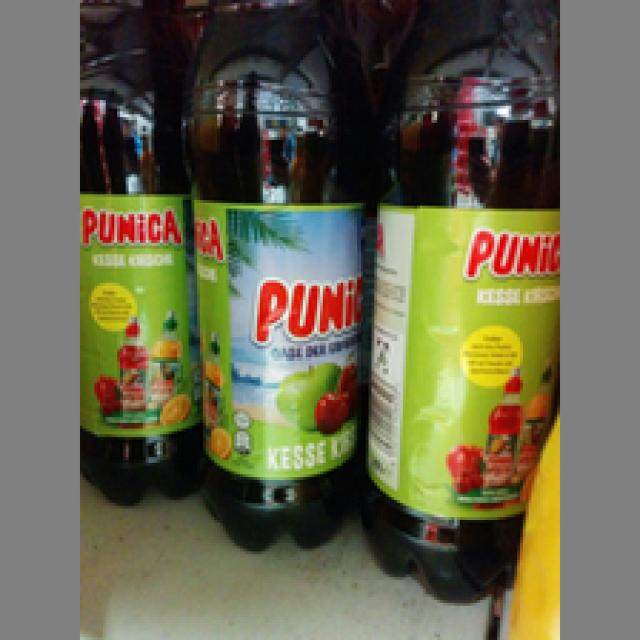groceries: (363, 6, 551, 603), (186, 0, 360, 557), (77, 20, 194, 500)
